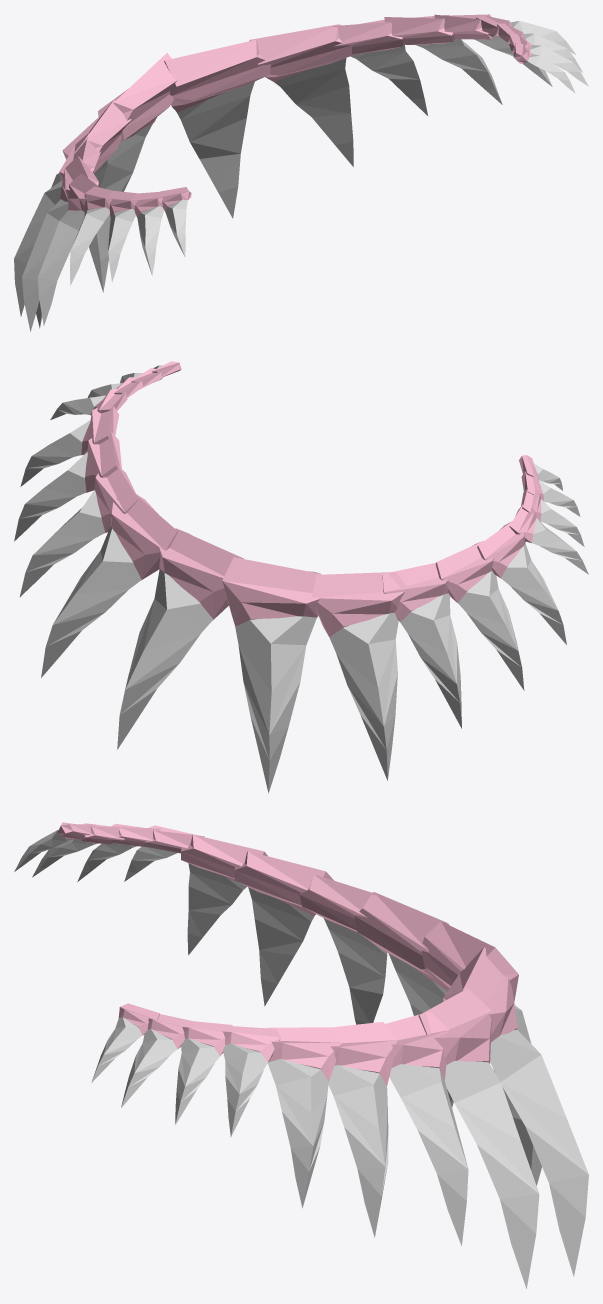
The model's file is Teeth Necklace.obj.
3 views of the same model, one above another, from view 1: azimuth 30°, elevation 25°; view 2: azimuth 150°, elevation 25°; view 3: azimuth 270°, elevation 25° (orthographic). The views are drawn at different scales.
Visible parts, largest first — view 1: group775173148, group2062884796, group1830049063, group126289314, group1035787740, group1688784022, group530824527, group348429536, group998101702, group46180860, group1097471629, group1151164973 (+19 smaller); view 2: group1688784022, group775173148, group2041456493, group1830049063, group1035787740, group46180860, group1513417120, group2062884796, group126289314, group998101702, group348429536, group530824527 (+12 smaller); view 3: group775173148, group1830049063, group348429536, group1097471629, group1021984469, group46180860, group998101702, group126289314, group1513417120, group1035787740, group2073799731, group2062884796 (+23 smaller).
Boxes of the visible parts, left/top/right/bottom form: group775173148: left=177, top=81, right=254, bottom=218; group2062884796: left=164, top=40, right=270, bottom=112; group1830049063: left=274, top=58, right=353, bottom=166; group126289314: left=249, top=24, right=351, bottom=81; group1035787740: left=98, top=53, right=178, bottom=140; group1688784022: left=89, top=123, right=152, bottom=292; group530824527: left=37, top=210, right=84, bottom=325; group348429536: left=350, top=44, right=427, bottom=115; group998101702: left=22, top=199, right=68, bottom=332; group46180860: left=62, top=99, right=131, bottom=173; group1097471629: left=416, top=39, right=502, bottom=104; group1151164973: left=323, top=19, right=403, bottom=55; group1688784022: left=235, top=616, right=316, bottom=793; group775173148: left=117, top=569, right=213, bottom=749; group2041456493: left=329, top=613, right=398, bottom=780; group1830049063: left=41, top=527, right=141, bottom=677; group1035787740: left=222, top=557, right=321, bottom=626; group46180860: left=312, top=572, right=406, bottom=636; group1513417120: left=400, top=593, right=461, bottom=728; group2062884796: left=159, top=528, right=243, bottom=619; group126289314: left=111, top=491, right=177, bottom=580; group998101702: left=458, top=570, right=524, bottom=690; group348429536: left=19, top=490, right=105, bottom=597; group530824527: left=501, top=543, right=566, bottom=644; group775173148: left=490, top=1029, right=588, bottom=1276; group1830049063: left=445, top=1060, right=539, bottom=1288; group348429536: left=389, top=1064, right=468, bottom=1245; group1097471629: left=328, top=1065, right=388, bottom=1237; group1021984469: left=267, top=1059, right=328, bottom=1208; group46180860: left=354, top=892, right=449, bottom=990; group998101702: left=248, top=887, right=314, bottom=1006; group126289314: left=418, top=988, right=491, bottom=1064; group1513417120: left=324, top=918, right=387, bottom=1024; group1035787740: left=421, top=921, right=518, bottom=1001; group2073799731: left=234, top=851, right=334, bottom=915; group2062884796: left=443, top=947, right=517, bottom=1041.
Size of the model in its own units: 1.57 by 0.7905 by 1.11.
